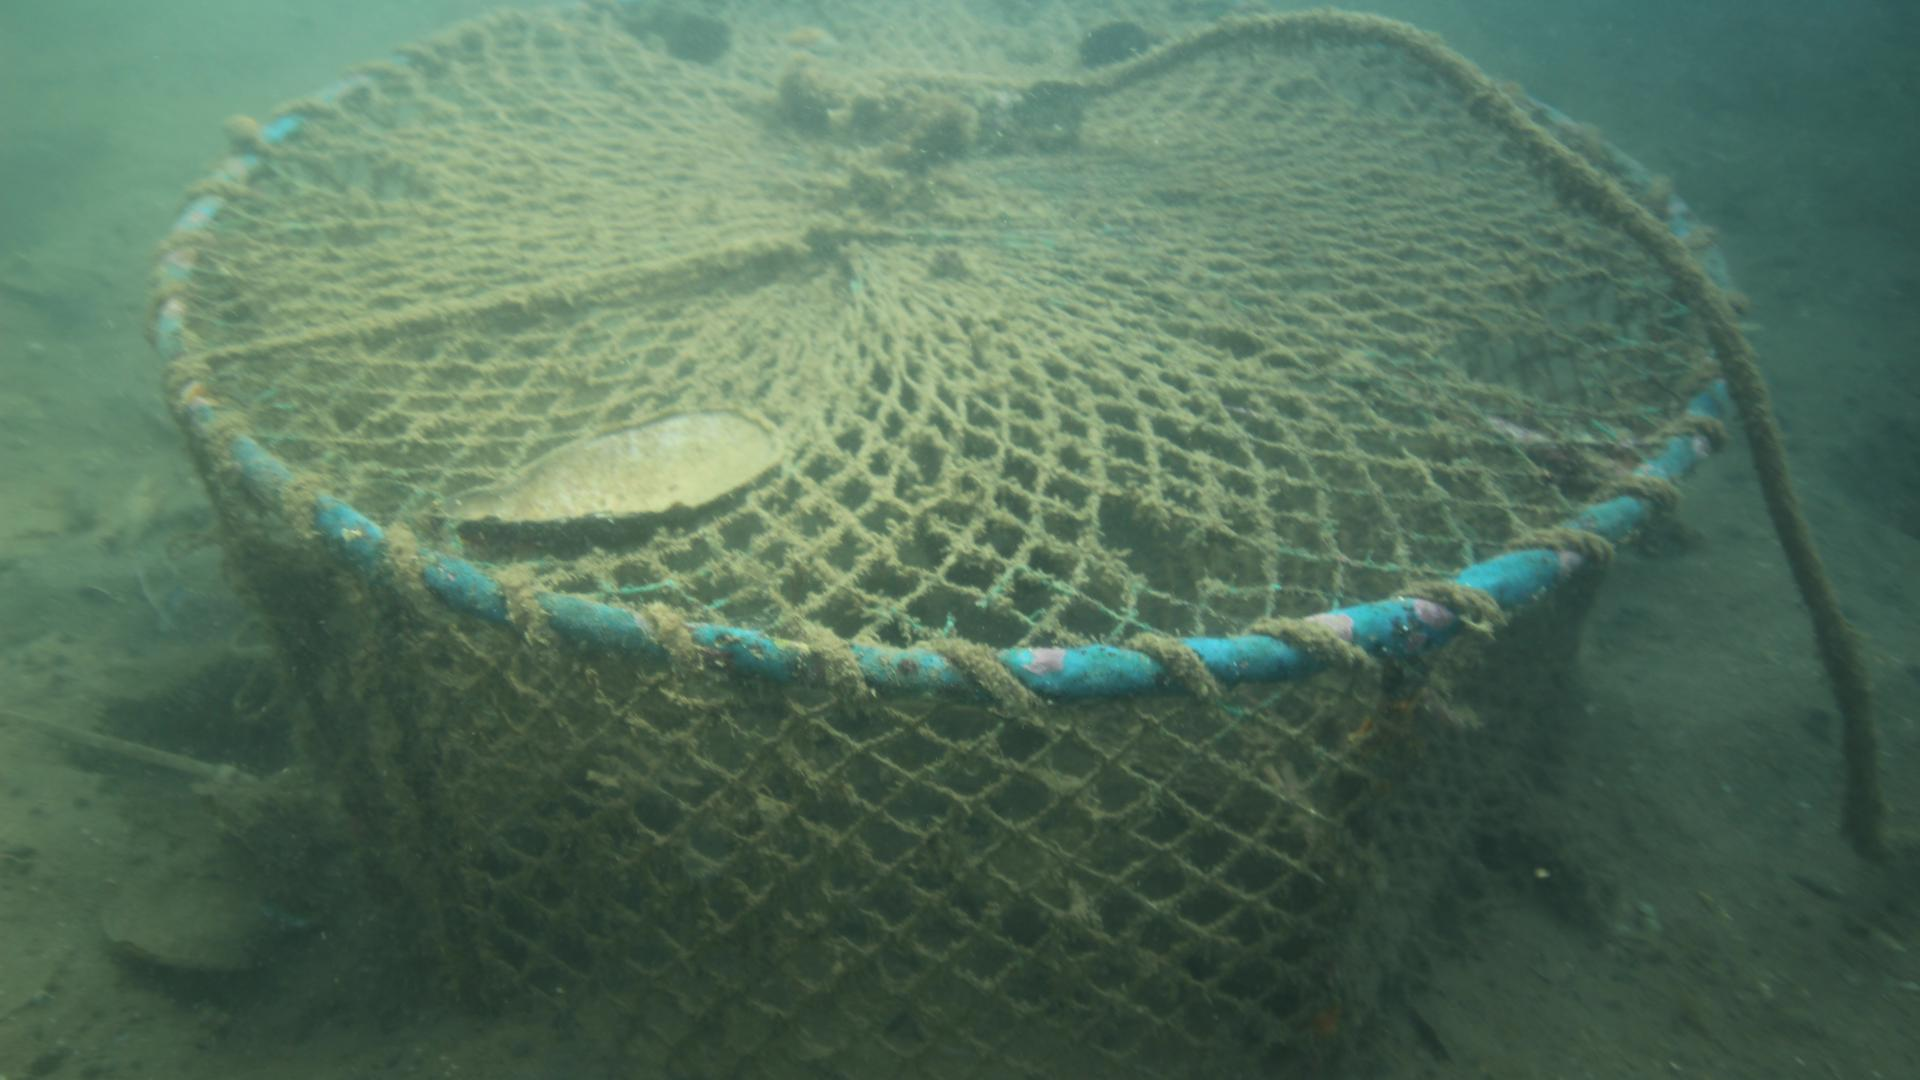circular fish trap: (141, 0, 1753, 1080)
